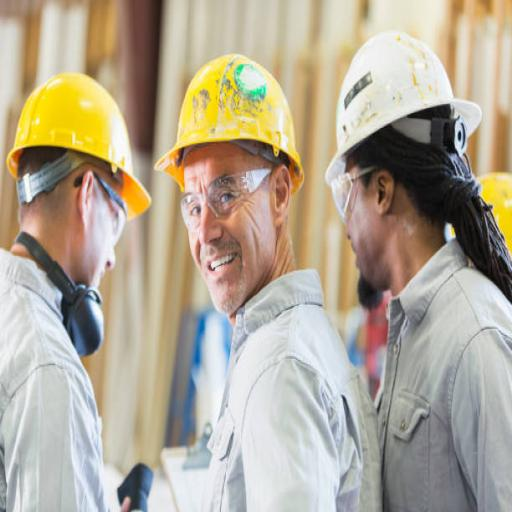helmet: (323, 23, 487, 212), (0, 63, 158, 243), (148, 46, 315, 214)
safety glasses: (174, 152, 288, 246), (63, 161, 144, 256), (319, 154, 406, 230)
